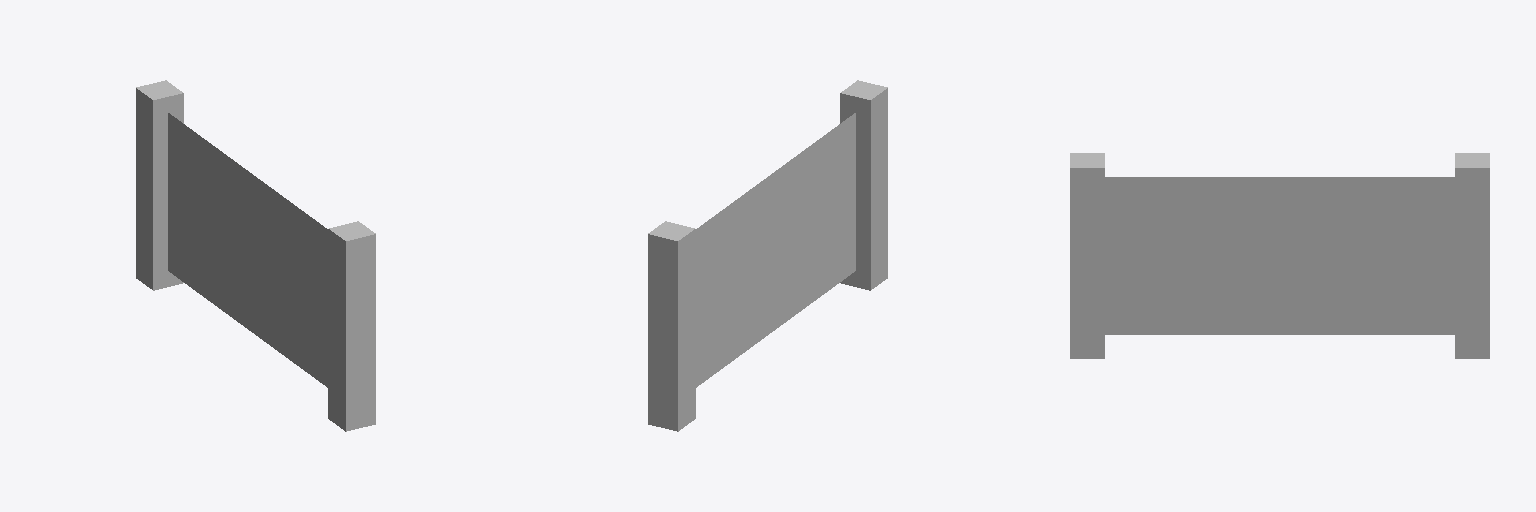
File: advertisement.obj
3 views of the same model, side by side, from view 1: azimuth 30°, elevation 25°; view 2: azimuth 150°, elevation 25°; view 3: azimuth 270°, elevation 25° (orthographic).
Parts seen in each view (by area): view 1: Plane, Cube, Cube.001; view 2: Plane, Cube.001, Cube; view 3: Plane, Cube, Cube.001.
Part boxes in pixels (bbox=[...]): Plane: bbox=[168, 113, 327, 387]; Cube: bbox=[328, 221, 375, 431]; Cube.001: bbox=[136, 80, 183, 290]; Plane: bbox=[696, 113, 855, 387]; Cube.001: bbox=[648, 221, 695, 431]; Cube: bbox=[840, 80, 887, 290]; Plane: bbox=[1105, 177, 1454, 334]; Cube: bbox=[1070, 153, 1104, 358]; Cube.001: bbox=[1455, 153, 1489, 358].
Bounding box in the file's own units: 1 × 6 × 12.